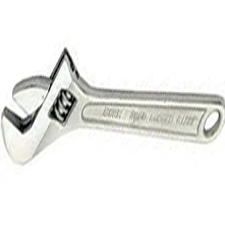Wrench: (3, 41, 225, 168)
